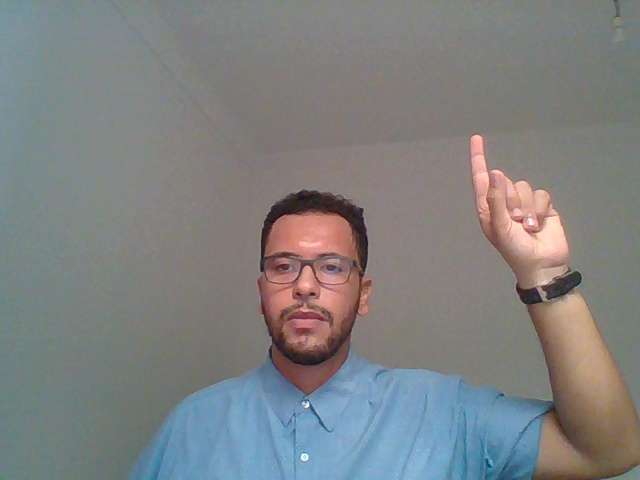handup: (447, 115, 607, 426)
